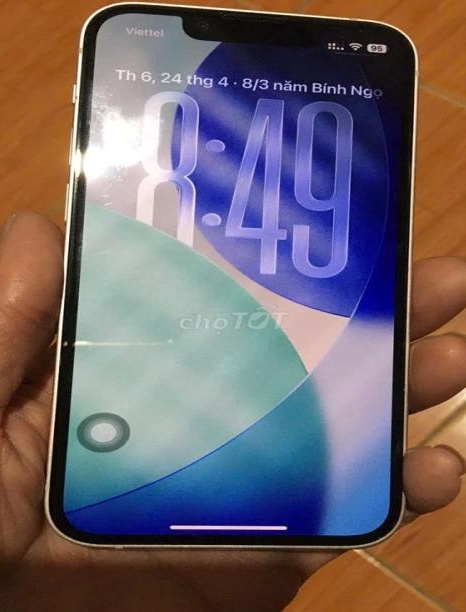scratch: (83, 70, 144, 216)
